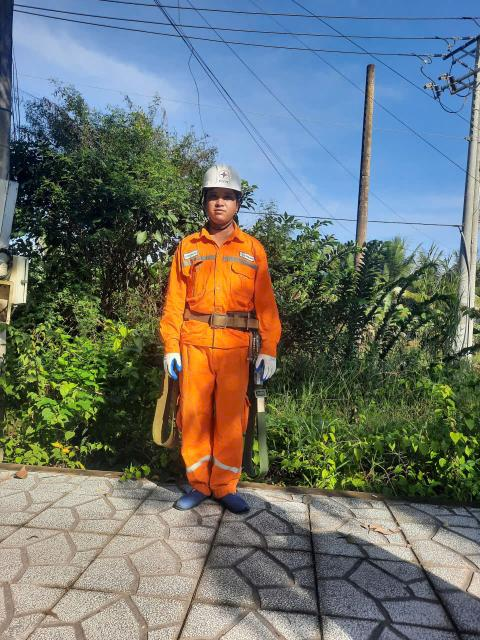gloves: (159, 338, 193, 390), (251, 347, 283, 382)
harness: (173, 295, 267, 342)
helmet: (193, 152, 249, 198)
shoes: (211, 475, 258, 521), (160, 479, 209, 512)
